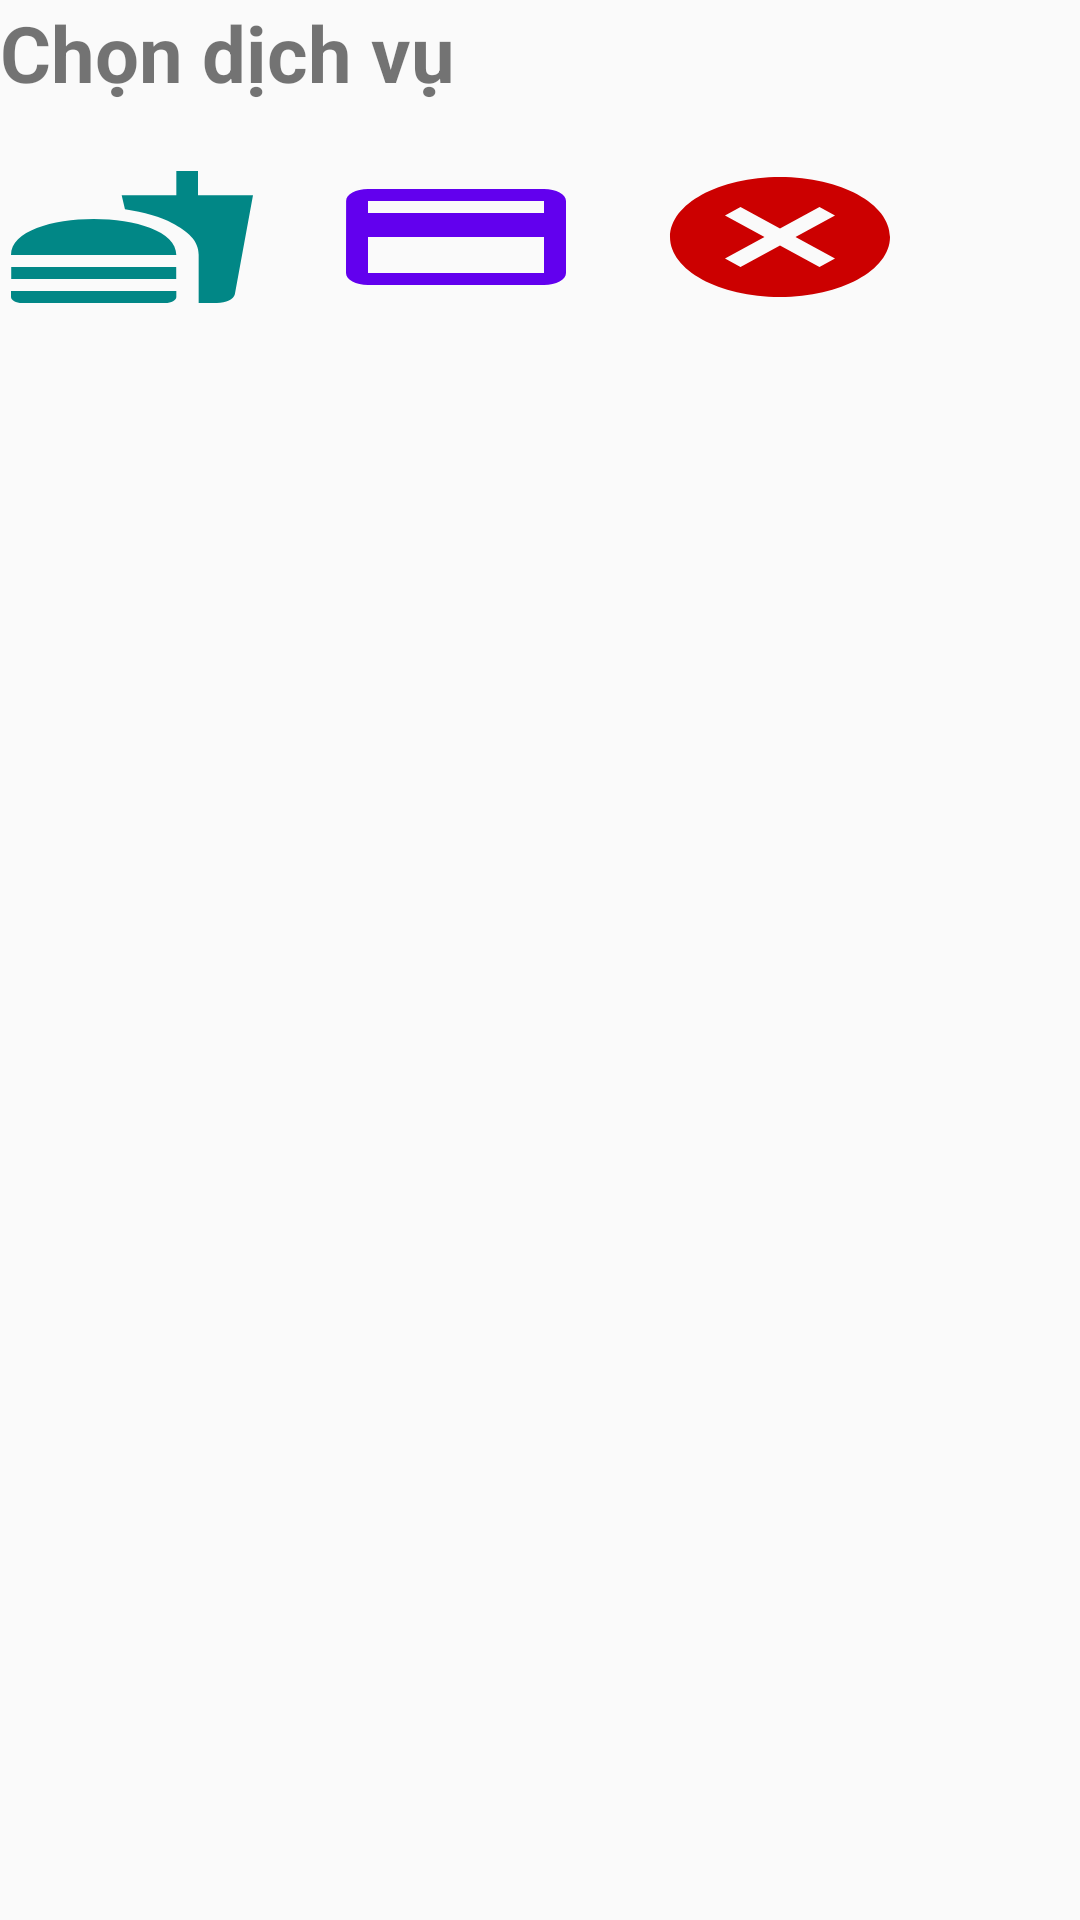

Icon click points for this 1080 × 1920 phone screenshot, format point (x, y):
cancel: point (780, 237)
fastfood: point (132, 237)
thanhtoan: point (456, 237)
